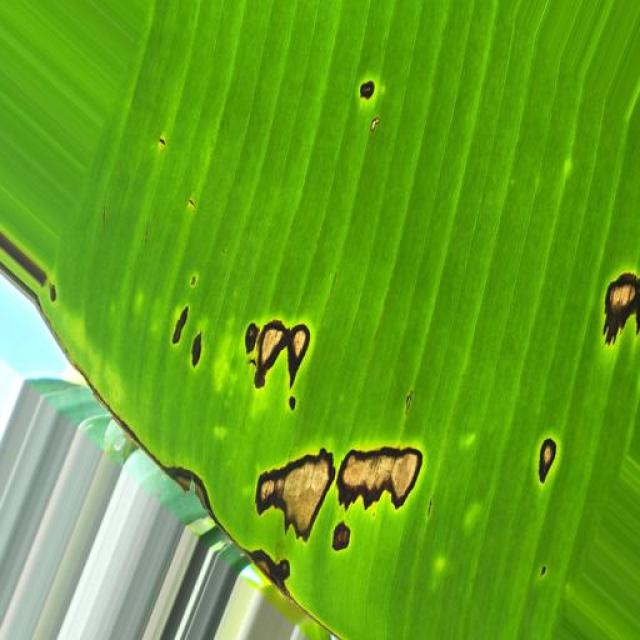Early_rust: (70, 280, 439, 584), (483, 403, 571, 509), (573, 248, 640, 371), (344, 50, 410, 147)
